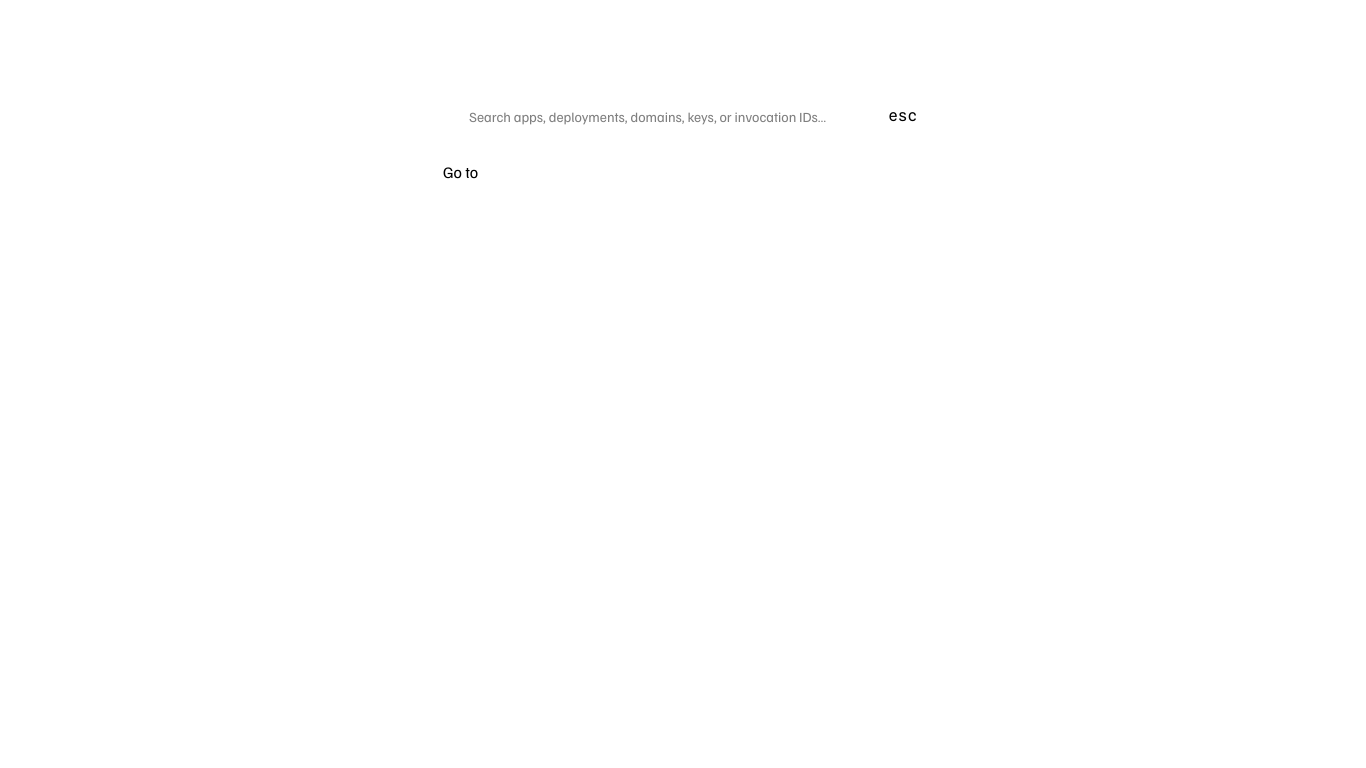
CommandPalette › leaves request counts out of app hints when request metrics are unknown
Step 1. Type "alpha" into the dropdown named "search commands" → (671, 116), box [469, 92, 872, 140]
(page scrolled)
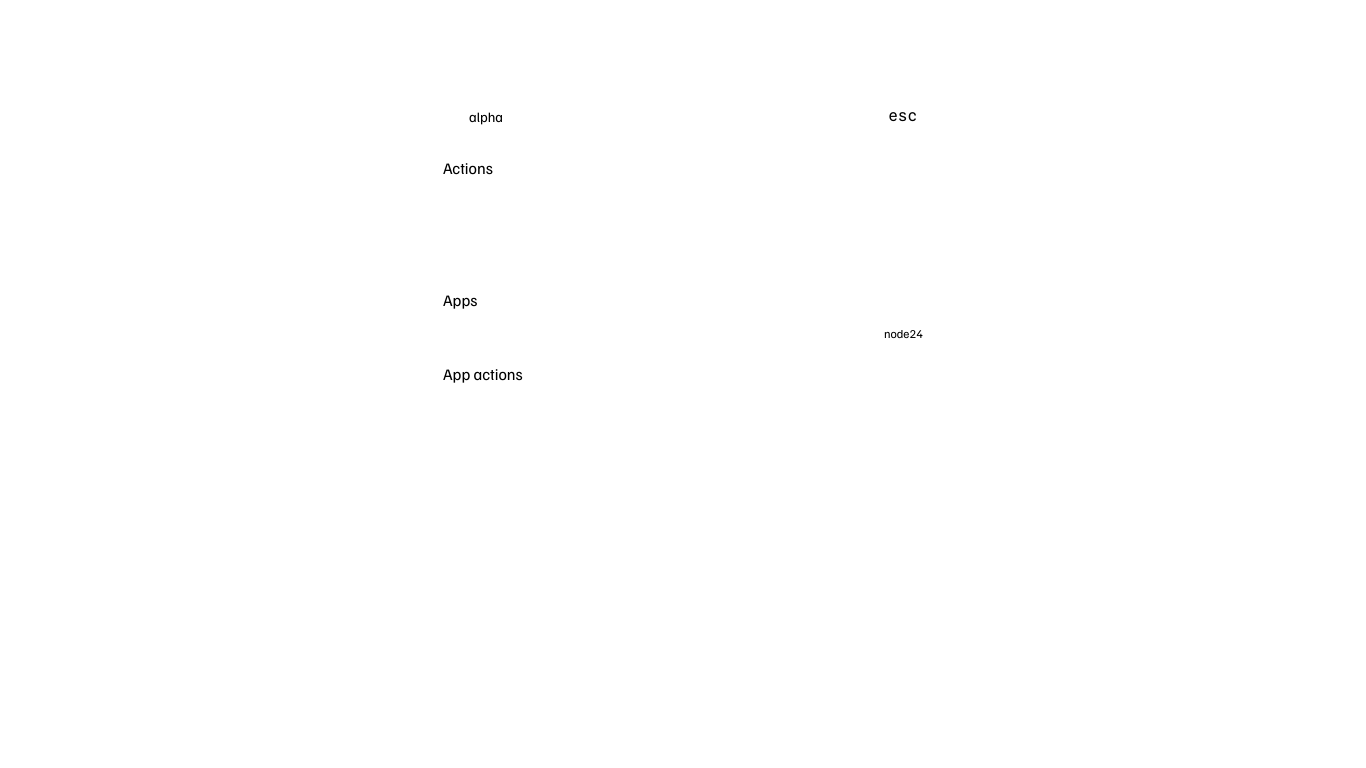
Now the text "node24" is shown, box [884, 326, 923, 342]
